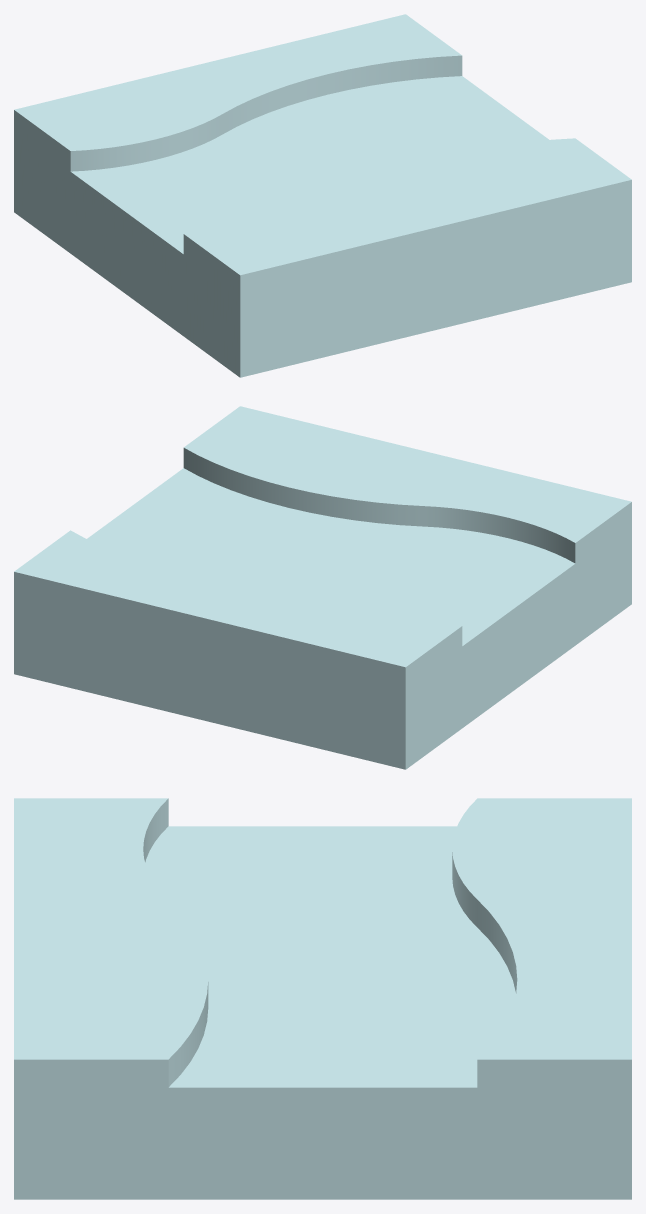
Rendered from ground_dirtRiver.fbx.
3 views of the same model, one above another, from view 1: azimuth 30°, elevation 25°; view 2: azimuth 150°, elevation 25°; view 3: azimuth 270°, elevation 25° (orthographic). The views are drawn at different scales.
Visible parts, largest first — view 1: ground_dirtRiver; view 2: ground_dirtRiver; view 3: ground_dirtRiver.
Part boxes in pixels (x1,y1,x2,y2): ground_dirtRiver: (14,14,631,377); ground_dirtRiver: (14,406,631,769); ground_dirtRiver: (14,798,631,1199).
Bounding box in the file's own units: 300 × 75 × 300.
